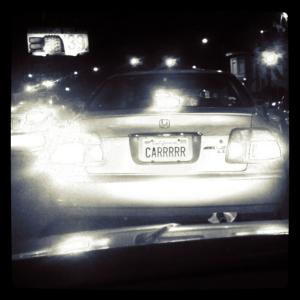Vehicle-registration-plate: (139, 137, 191, 163)
